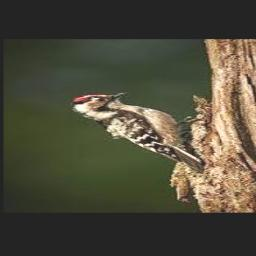Woodpecker: (70, 91, 202, 172)
